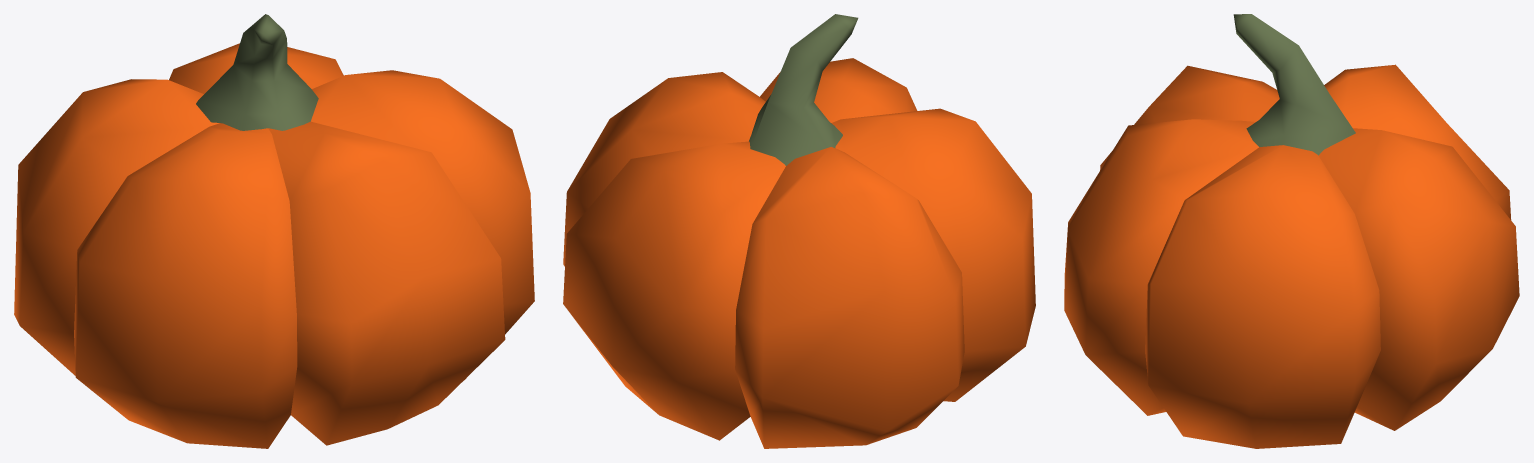
Rendered from Pumpkin_A.fbx.
3 views of the same model, side by side, from view 1: azimuth 30°, elevation 25°; view 2: azimuth 150°, elevation 25°; view 3: azimuth 270°, elevation 25° (orthographic). The views are drawn at different scales.
Parts seen in each view (by area): view 1: Pumpkin_A; view 2: Pumpkin_A; view 3: Pumpkin_A.
Boxes of the visible parts, x1,y1,x2,y2 form: Pumpkin_A: (14, 14, 534, 448); Pumpkin_A: (563, 14, 1035, 448); Pumpkin_A: (1064, 14, 1519, 448).
Size of the model in its own units: 50.93 by 43.5 by 48.67.
